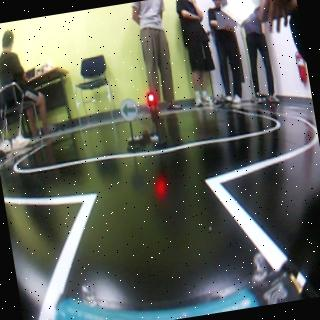left: (118, 100, 140, 122)
red: (146, 91, 166, 148)
